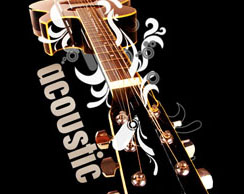guitar: (28, 1, 208, 193)
